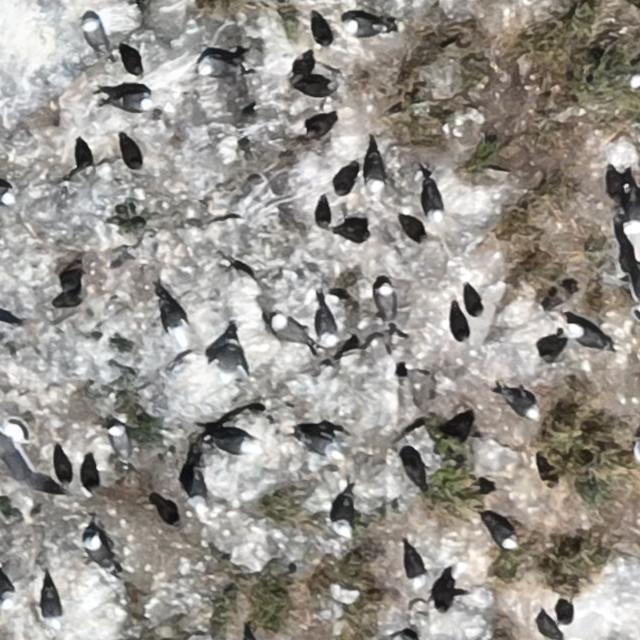umineko: (158, 294, 187, 348), (487, 515, 517, 547), (506, 393, 539, 420), (272, 318, 302, 344), (111, 94, 152, 112), (333, 496, 352, 534), (205, 57, 243, 76), (300, 434, 336, 454), (570, 326, 604, 347), (406, 551, 426, 585), (422, 182, 440, 218), (317, 305, 334, 343), (376, 284, 393, 320), (348, 19, 382, 36), (216, 437, 250, 454), (87, 536, 108, 563), (84, 21, 103, 50), (367, 154, 383, 185), (44, 589, 59, 621), (556, 602, 572, 631), (112, 426, 129, 453), (315, 199, 329, 229), (191, 473, 204, 501), (629, 73, 639, 92)
